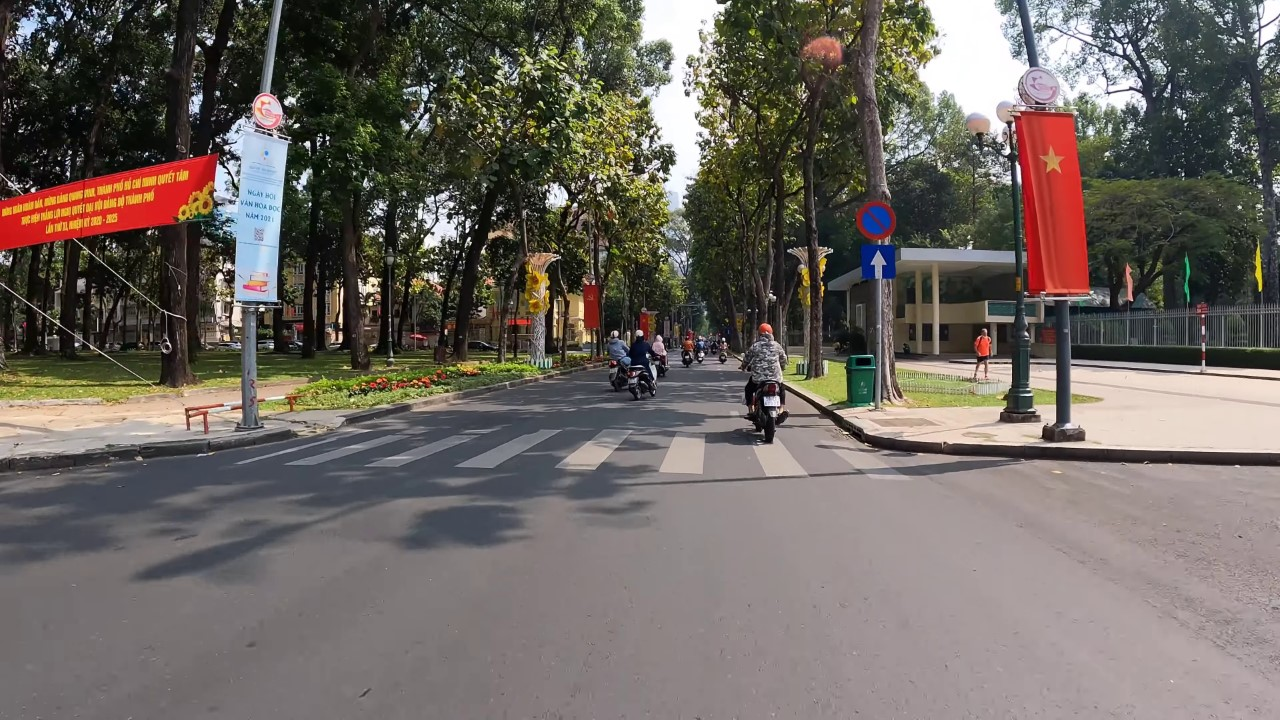cam_do_xe: (852, 198, 898, 243)
